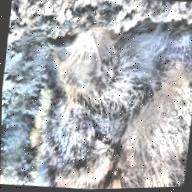boar: (16, 7, 192, 192)
